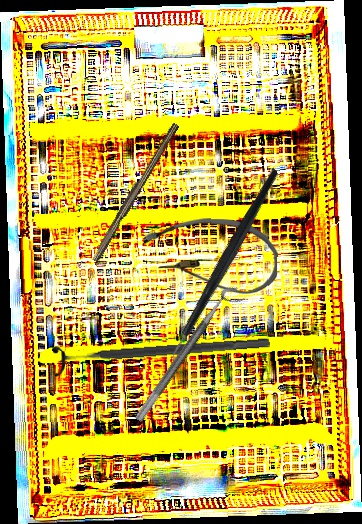Cannula: (142, 217, 279, 295)
Chopper: (116, 167, 335, 374)
Fixation Ring: (133, 281, 248, 431), (51, 325, 272, 379)
Scalpel Handle: (89, 120, 180, 264)
